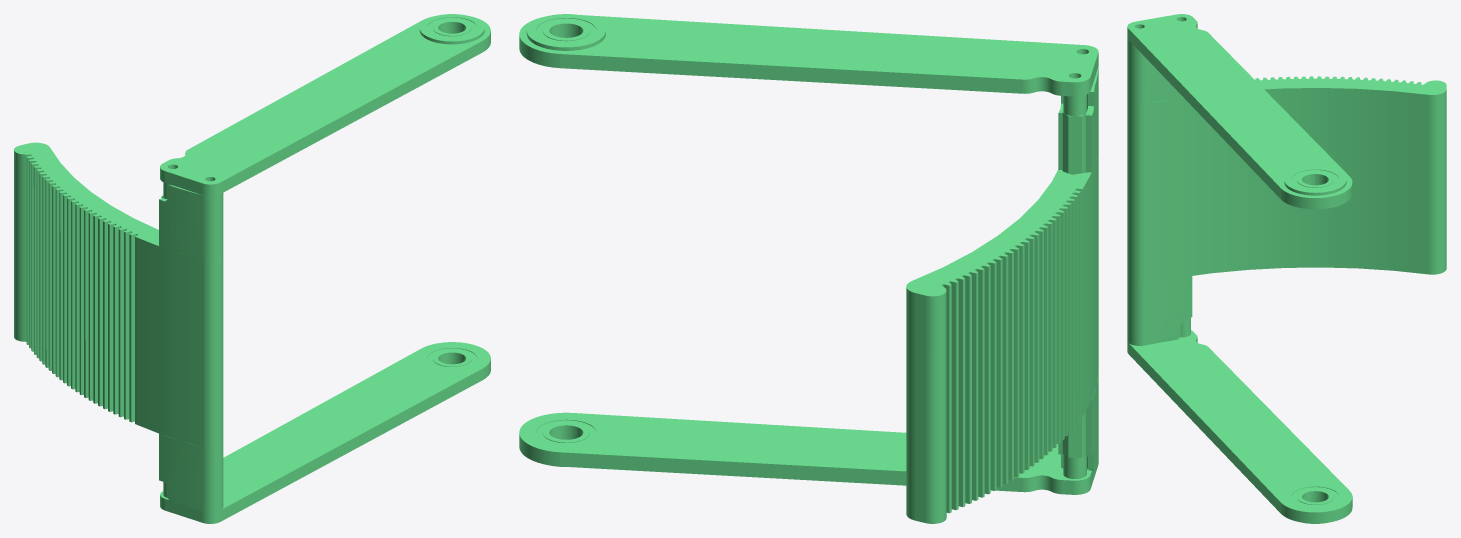
3 views of the same model, side by side, from view 1: azimuth 30°, elevation 25°; view 2: azimuth 150°, elevation 25°; view 3: azimuth 270°, elevation 25° (orthographic). The views are drawn at different scales.
Parts seen in each view (by area): view 1: 26G0401__5, 26G0403__9, 26G0403__8, 26G0406__13, 26G0407__10, 1/2" Thunder Flanged__16, 1/2" Thunder Flanged__4; view 2: 26G0401__5, 26G0403__9, 26G0403__8, 1/2" Thunder Flanged__16, 6" L #10-32 3/8" Hex Standofff__6, 1/2" Thunder Flanged__4, 26G0406__13, 26G0407__10; view 3: 26G0401__5, 26G0403__9, 26G0403__8, 26G0407__10, 26G0406__13, 1/2" Thunder Flanged__16, 1/2" Thunder Flanged__4.
Boxes of the visible parts, x1=… form: 26G0401__5: x1=14, y1=142, x2=223, y2=447; 26G0403__9: x1=160, y1=16, x2=490, y2=196; 26G0403__8: x1=160, y1=342, x2=490, y2=523; 26G0406__13: x1=159, y1=185, x2=223, y2=260; 26G0407__10: x1=159, y1=433, x2=223, y2=512; 1/2" Thunder Flanged__16: x1=419, y1=14, x2=484, y2=44; 1/2" Thunder Flanged__4: x1=423, y1=346, x2=481, y2=370; 26G0401__5: x1=906, y1=146, x2=1098, y2=523; 26G0403__9: x1=519, y1=15, x2=1098, y2=96; 26G0403__8: x1=519, y1=412, x2=1098, y2=494; 1/2" Thunder Flanged__16: x1=526, y1=14, x2=605, y2=50; 6" L #10-32 3/8" Hex Standofff__6: x1=1062, y1=110, x2=1087, y2=457; 1/2" Thunder Flanged__4: x1=531, y1=417, x2=601, y2=466; 26G0406__13: x1=1058, y1=66, x2=1098, y2=172; 26G0407__10: x1=1058, y1=373, x2=1098, y2=470; 26G0401__5: x1=1127, y1=76, x2=1446, y2=284; 26G0403__9: x1=1127, y1=14, x2=1352, y2=209; 26G0403__8: x1=1127, y1=330, x2=1352, y2=523; 26G0407__10: x1=1127, y1=276, x2=1190, y2=345; 26G0406__13: x1=1127, y1=38, x2=1183, y2=104; 1/2" Thunder Flanged__16: x1=1284, y1=166, x2=1346, y2=195; 1/2" Thunder Flanged__4: x1=1287, y1=485, x2=1343, y2=523.
Bounding box in the file's own units: 0.2362 × 0.1873 × 0.1637.
